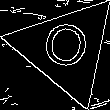O_S: (39, 20, 93, 78)
